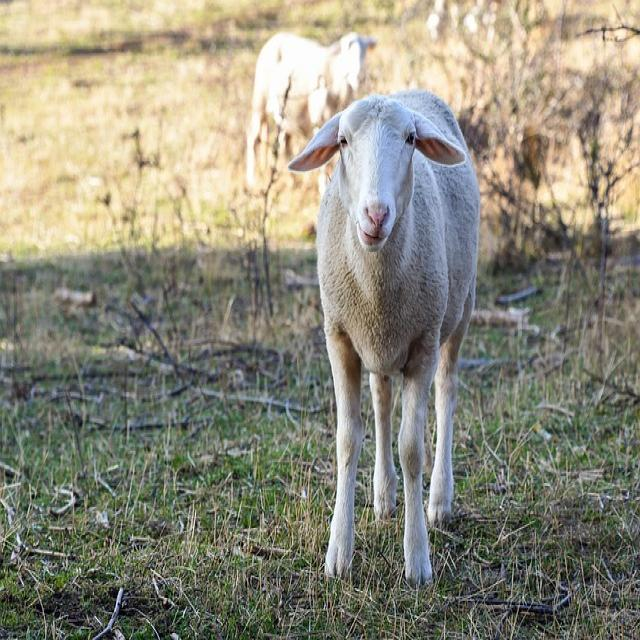sheep: (286, 87, 481, 588), (244, 30, 378, 194)
